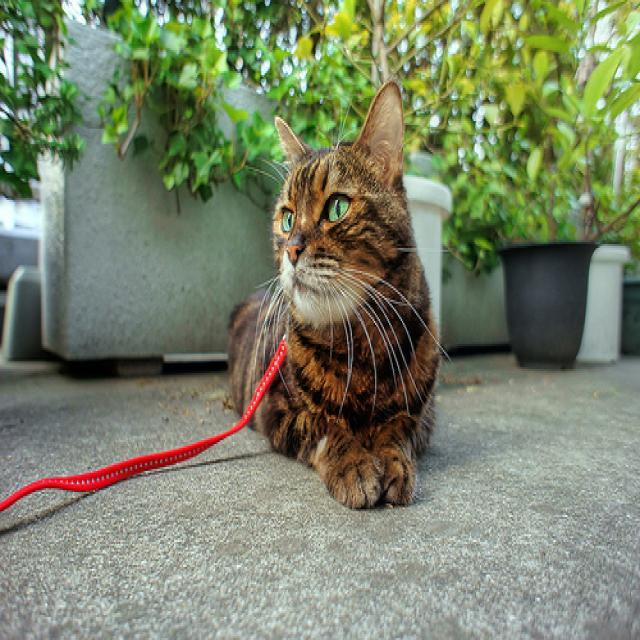Bengal: (271, 79, 402, 321)
